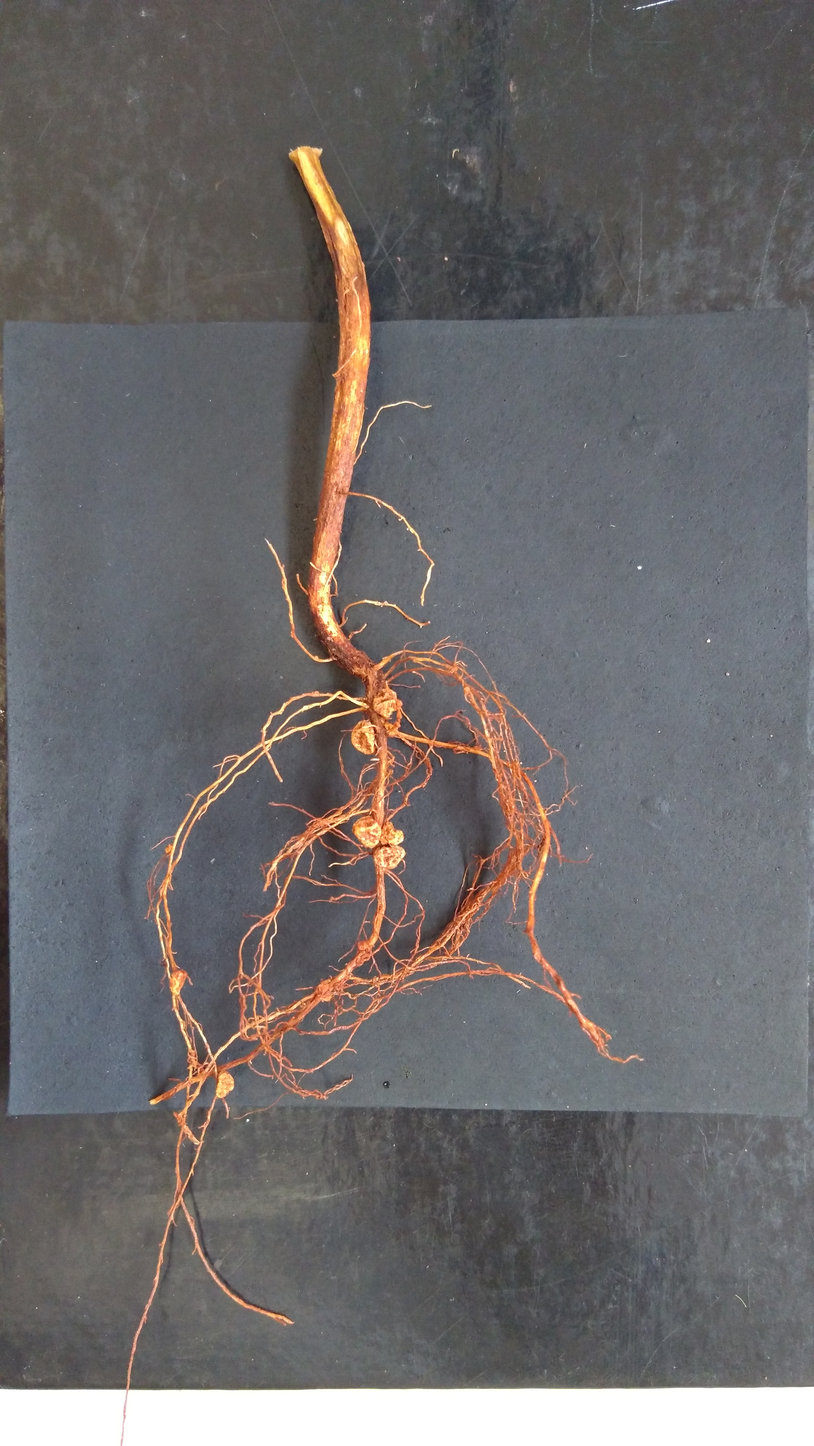nodule: (350, 814, 382, 849), (349, 718, 377, 756), (372, 844, 407, 871), (372, 690, 399, 719), (214, 1069, 236, 1099), (380, 821, 405, 847), (168, 968, 188, 996), (319, 978, 333, 999), (356, 938, 372, 952)
